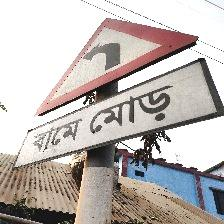Left-Turn: (17, 18, 223, 168)
